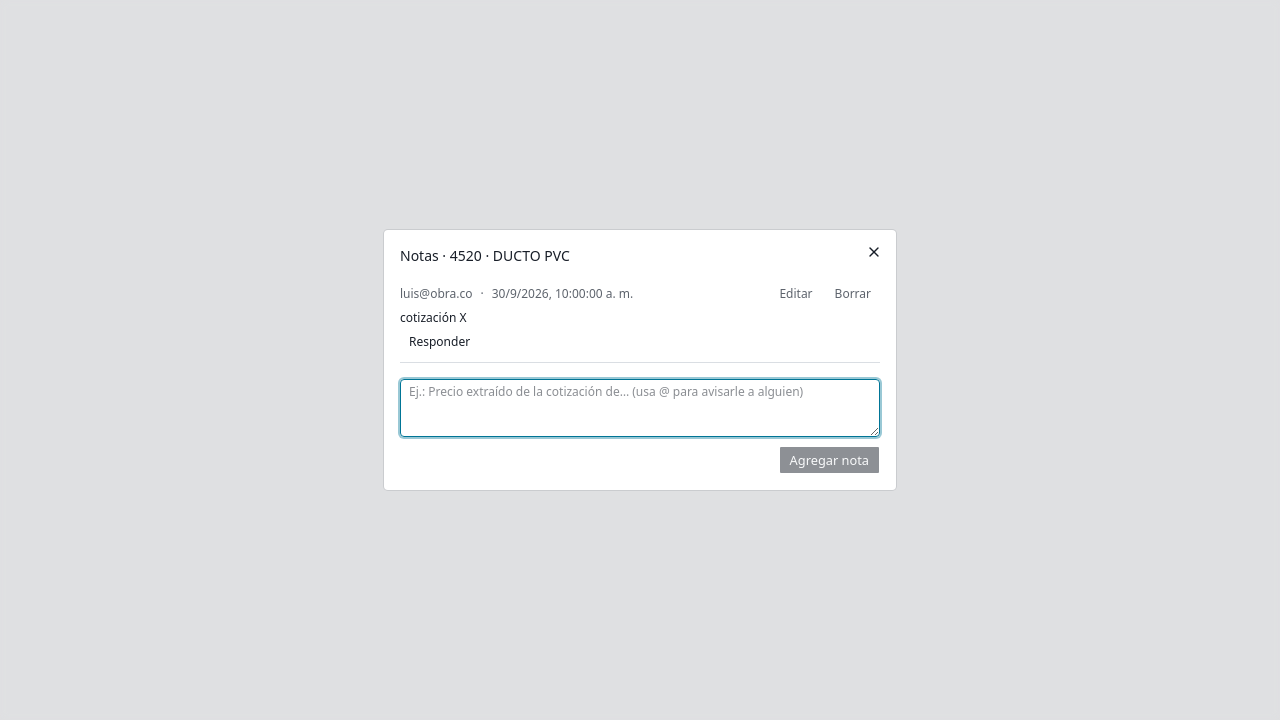
Test case: DialogoNotas › edita la propia
Click the button "Editar" at (796, 294), box x1=770 y1=282 x2=822 y2=306
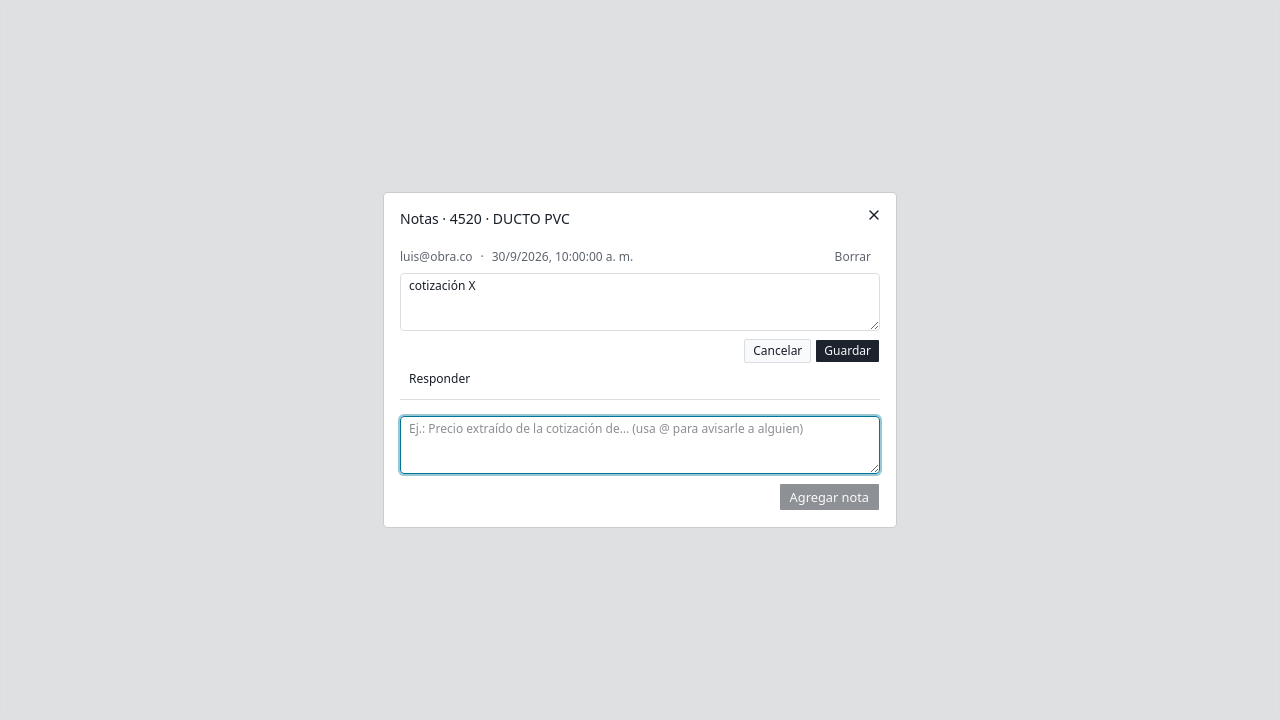
Replace the text in the text box named "Editar nota" with "corregida" at (640, 302), box x1=400 y1=273 x2=880 y2=331
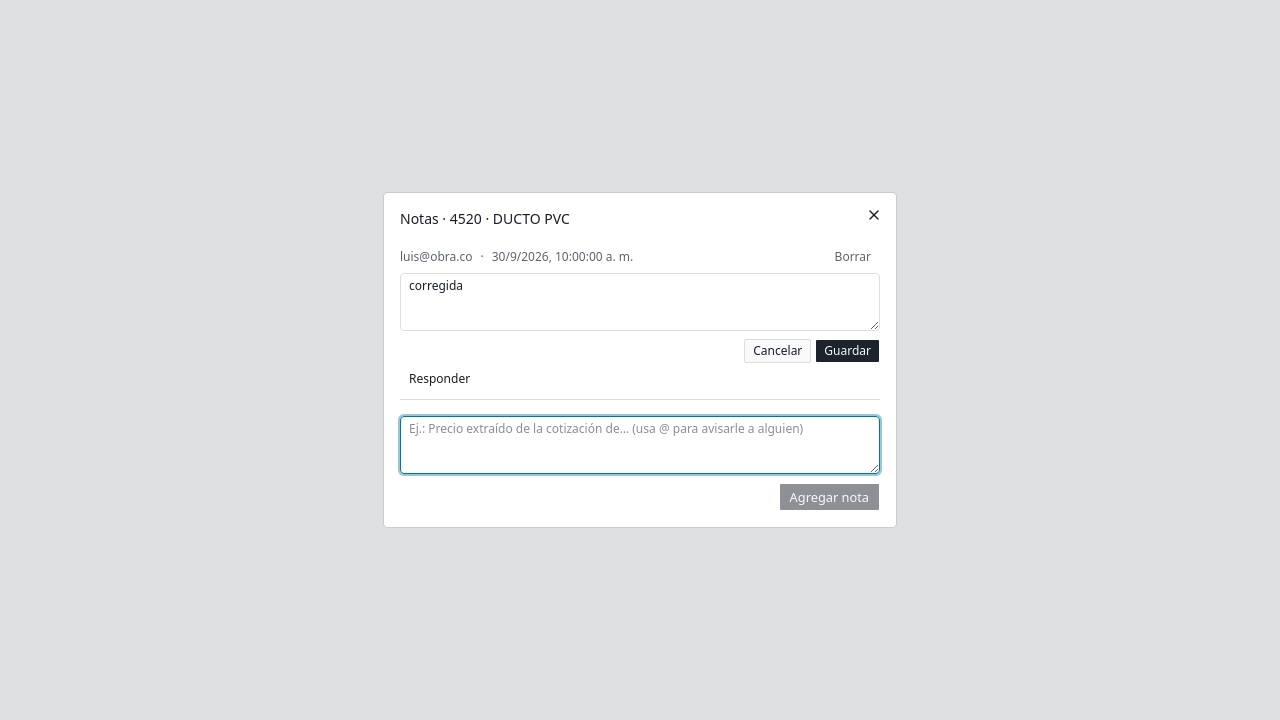
Click the button "Guardar" at (848, 351), box x1=815 y1=339 x2=880 y2=363
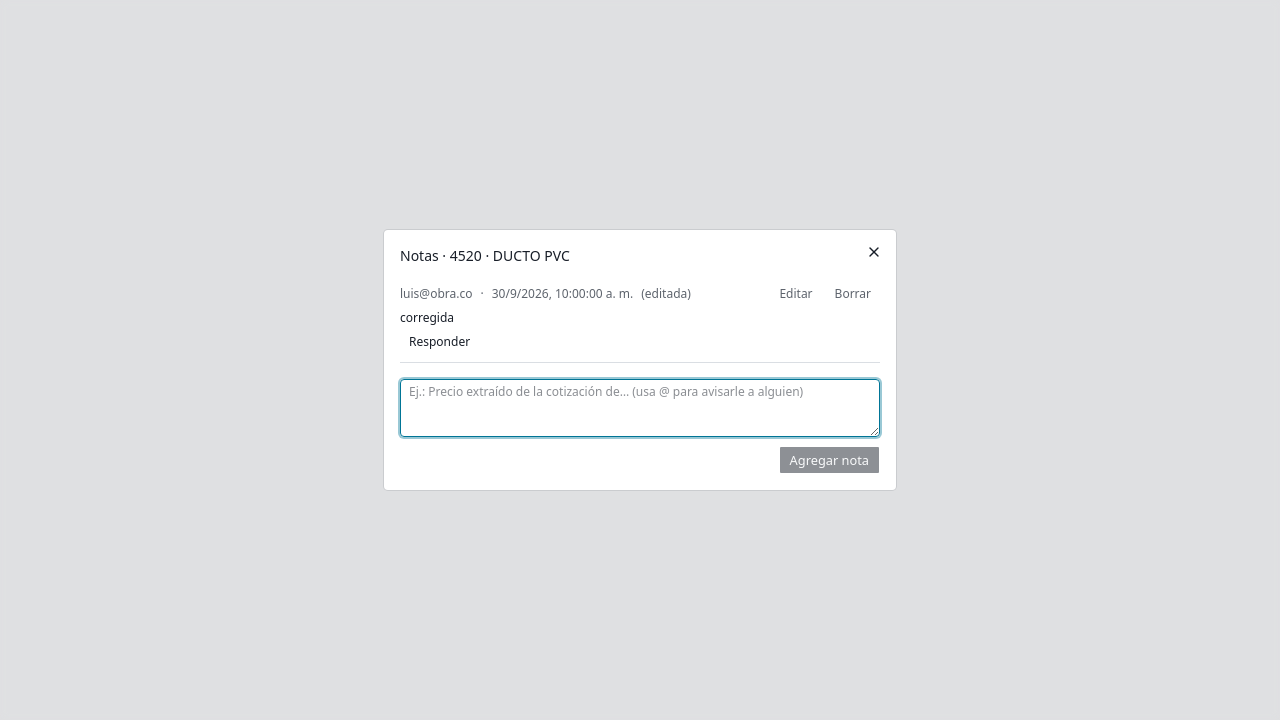
Expected: the text "corregida" is shown, x1=400 y1=309 x2=454 y2=326
Expected: the text "(editada)" is shown, x1=641 y1=286 x2=691 y2=302
